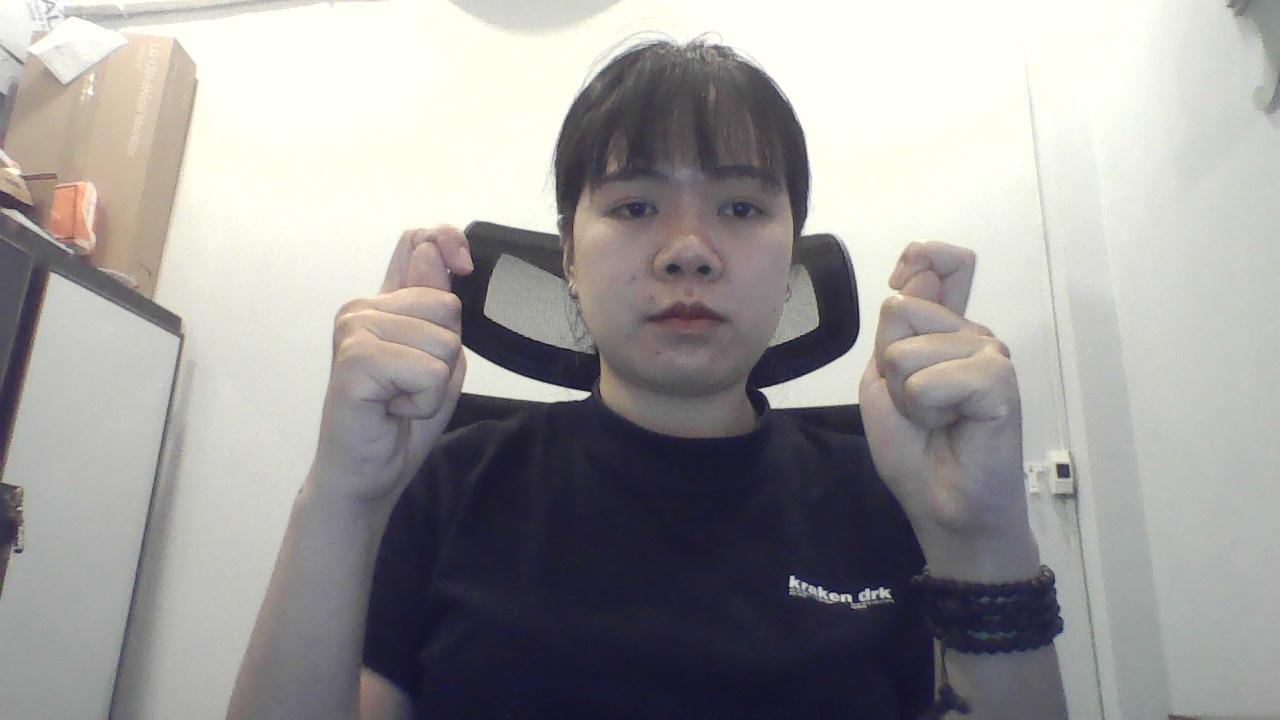X: (824, 222, 1050, 528), (307, 212, 484, 496)
